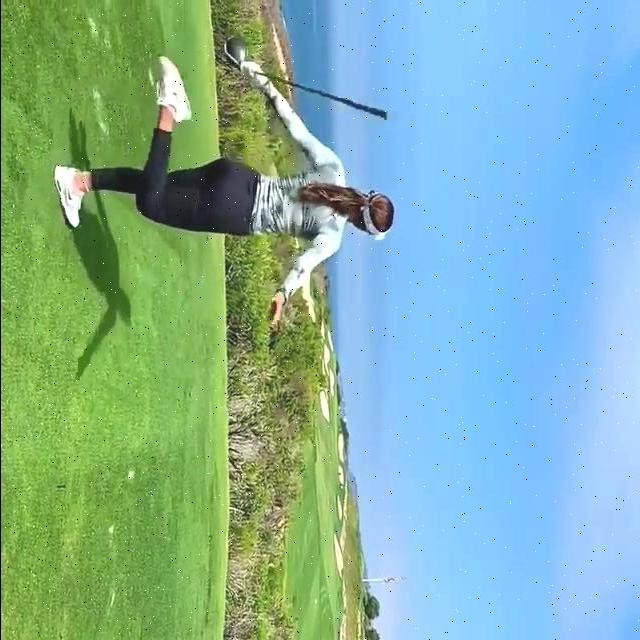golf club-handle: (222, 36, 387, 121)
golf club-head: (223, 36, 245, 67)
